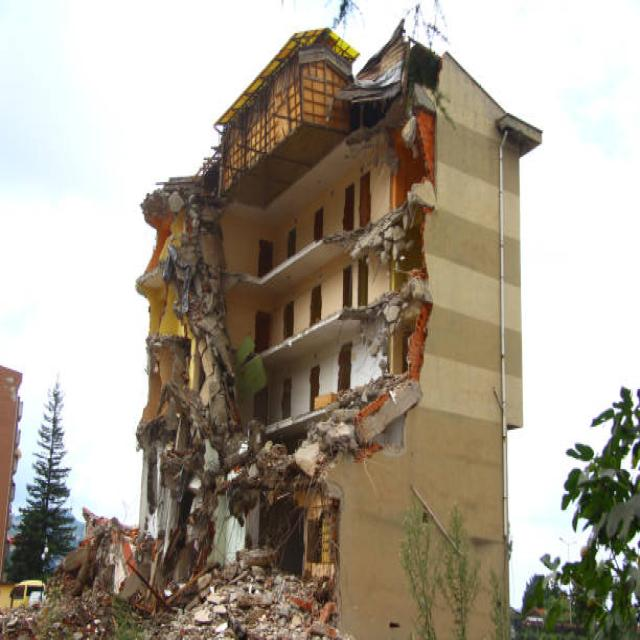Destroyed_building: (42, 1, 572, 640)
